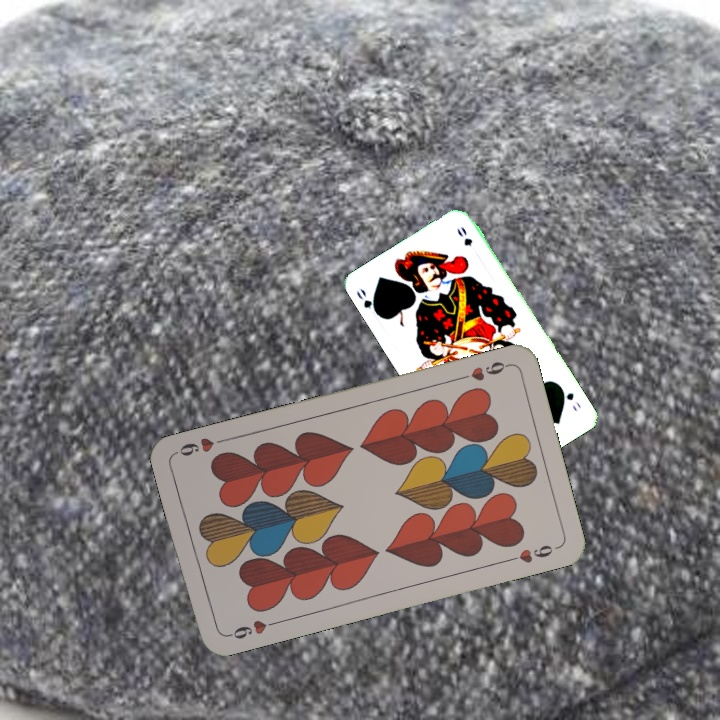GO: (352, 284, 383, 319), (556, 382, 583, 414)
H9: (454, 357, 512, 384), (222, 616, 280, 642)
